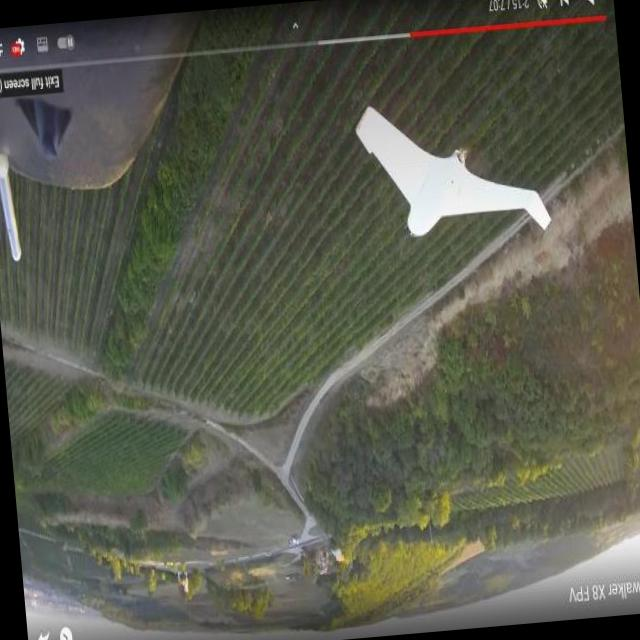UAV: (350, 94, 546, 254)
